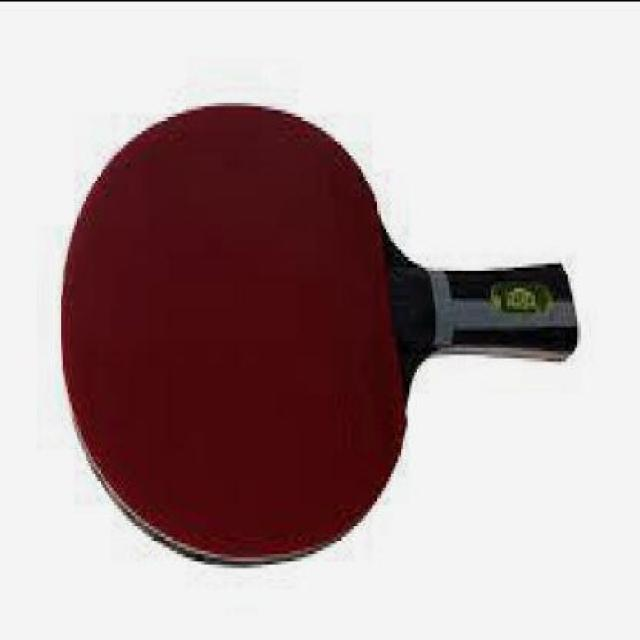table_tennis_racket: (53, 94, 404, 577)
